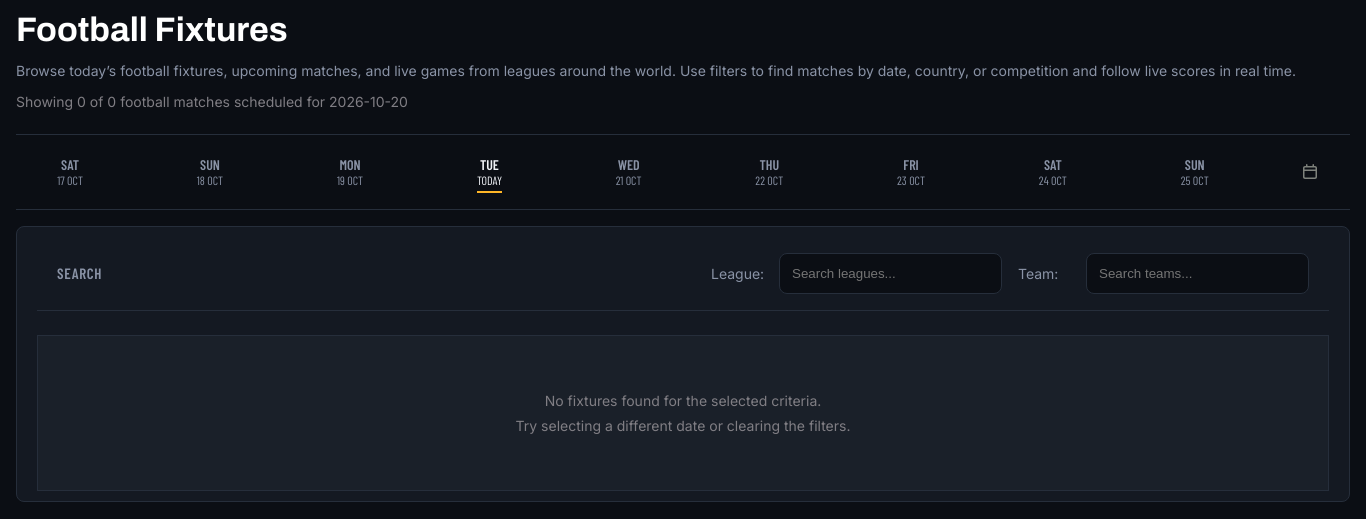
Test: local Tuesday stays Tuesday at 0:30 and clicking Wednesday requests its actual date
Expected: the list item "TODAY" shows "TUE", [480, 156, 499, 173]
Step 1. Click the list item "WED 21 Oct" → click(629, 172), box [616, 156, 642, 187]
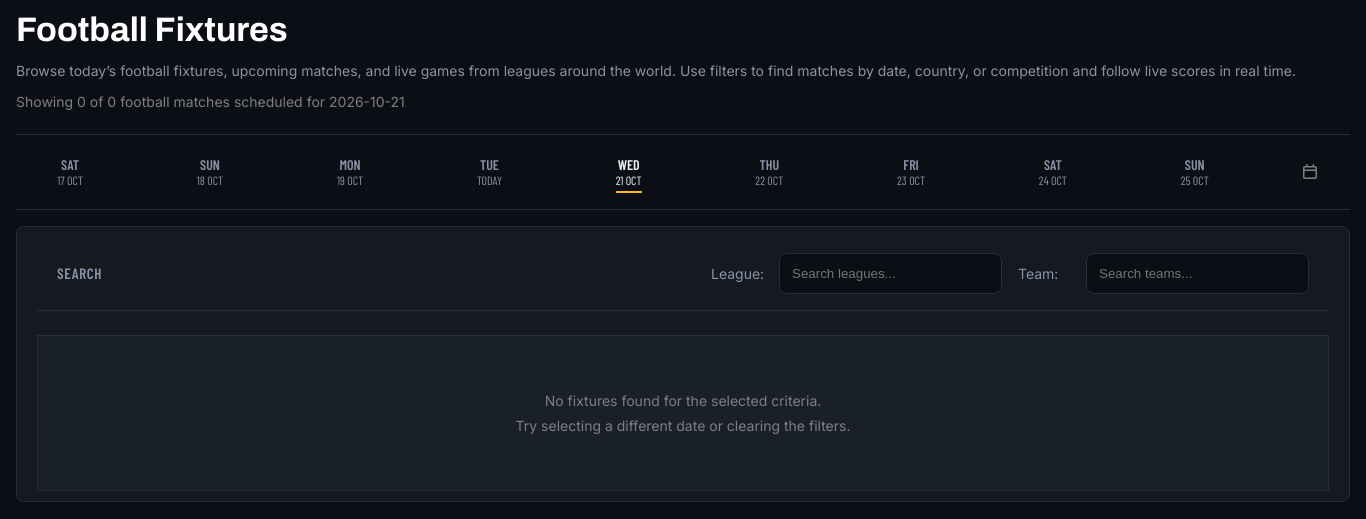
Now the text "Showing 0 of 0 football matches scheduled for 2026-10-21" is shown, box [16, 93, 405, 110]
